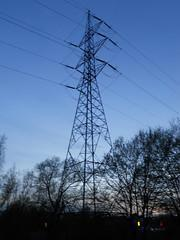power_tower: (58, 8, 134, 220)
